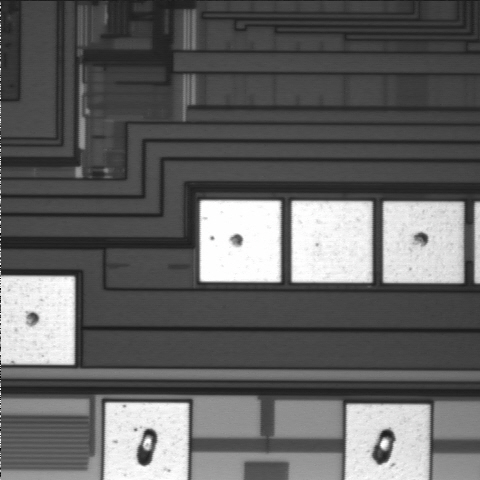pad: (200, 200, 281, 282), (292, 201, 372, 283), (383, 202, 463, 283)
